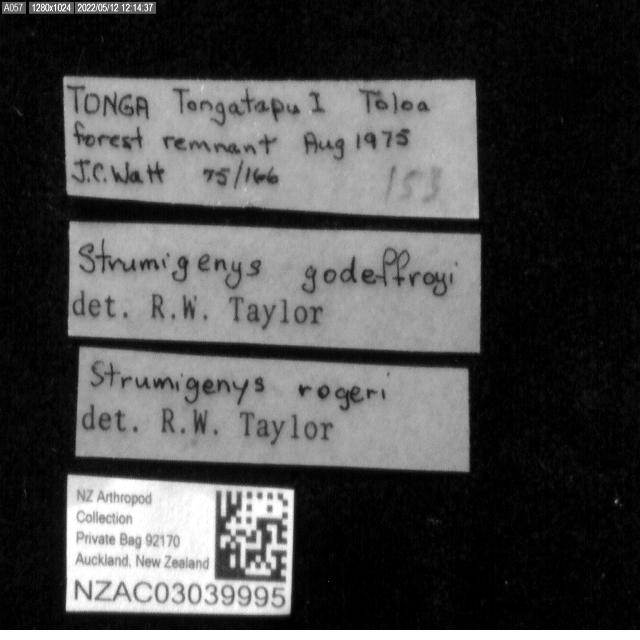hand_label: (64, 77, 479, 219)
mixed_label: (69, 222, 481, 353), (75, 347, 470, 472)
typed_label: (66, 475, 294, 616)
